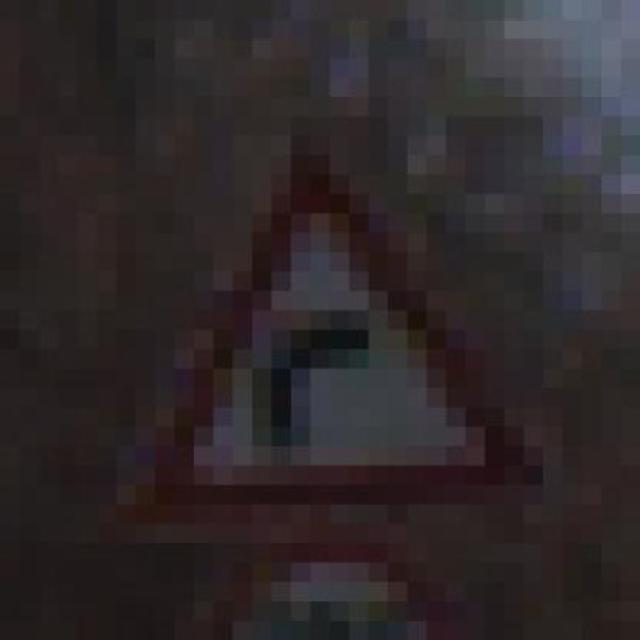Dangerous Rright Curve Ahead: (75, 147, 559, 516)
